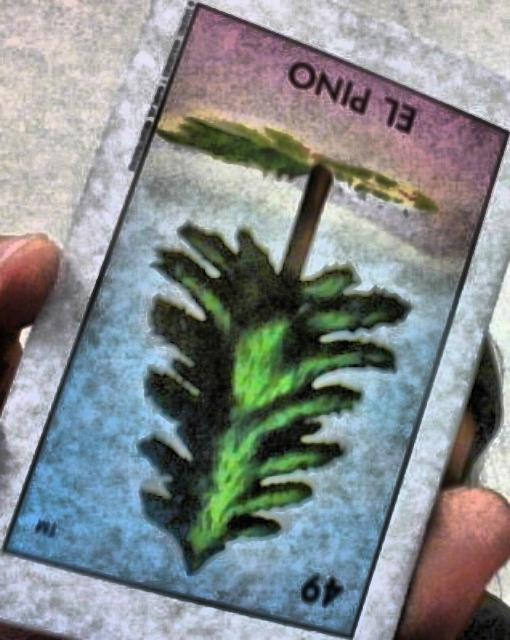El Pino: (8, 8, 504, 632)
